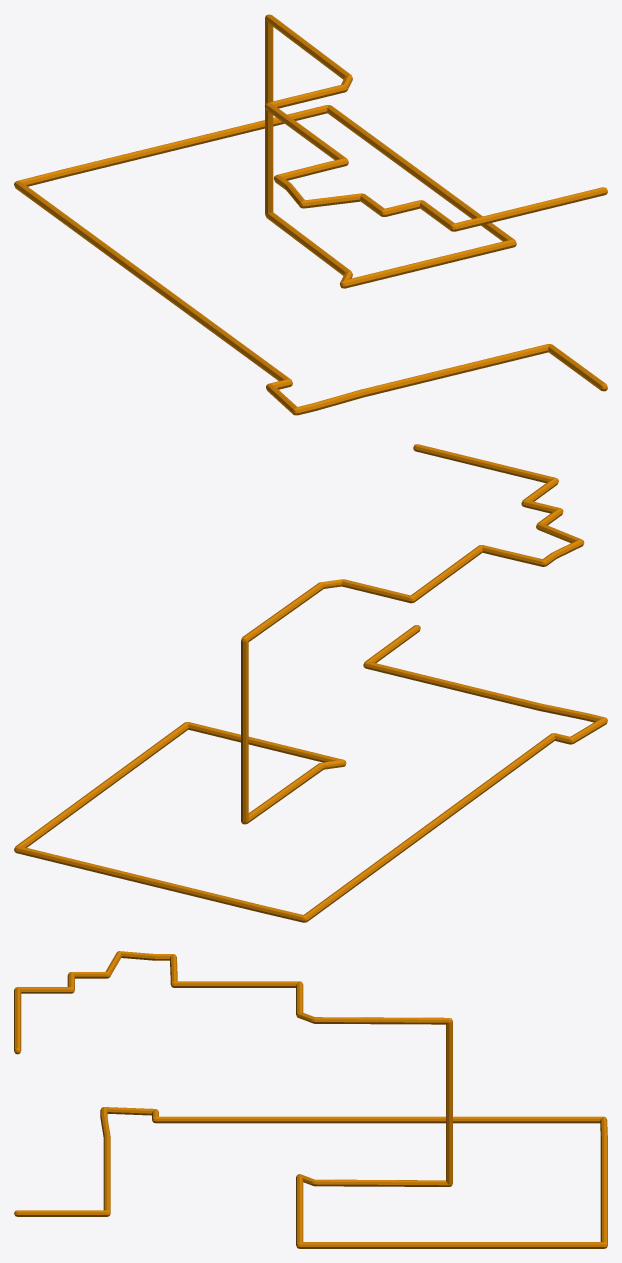
3 views of the same model, one above another, from view 1: azimuth 30°, elevation 25°; view 2: azimuth 150°, elevation 25°; view 3: azimuth 270°, elevation 25° (orthographic). The views are drawn at different scales.
Bounding box in the file's own units: 912 × 520 × 1657.
